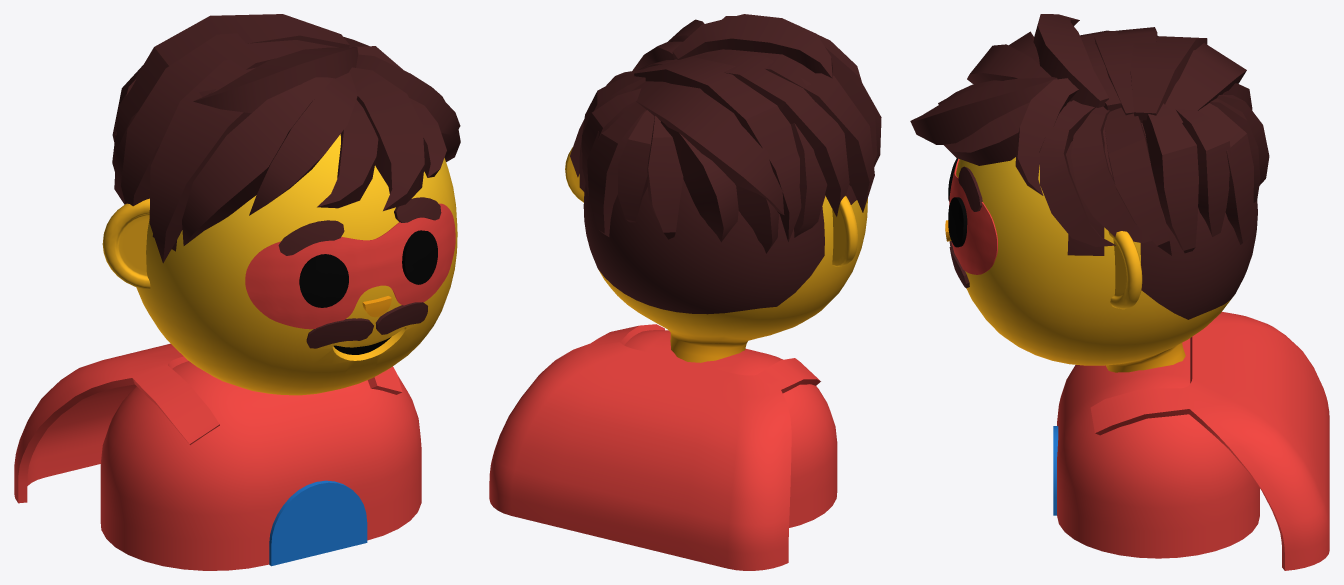
File: man_superhero.gltf
3 renders of one model, left to right at view 1: azimuth 30°, elevation 25°; view 2: azimuth 150°, elevation 25°; view 3: azimuth 270°, elevation 25°, orthographic. The views are drawn at different scales.
Visible parts, largest first — view 1: Cube.2350, Sphere.156, Roundcube.198, Sphere.157, Roundcube.199, Circle.961, Circle.956, Cylinder.175, Circle.960, Circle.959; view 2: Sphere.157, Cube.2350, Roundcube.198, Sphere.156, Cylinder.175; view 3: Cube.2350, Roundcube.198, Sphere.156, Sphere.157, Roundcube.199, Cylinder.175, Circle.956, Circle.959.
Part boxes in pixels (box(x1,y1,x2,y2)): Cube.2350: box(112, 14, 460, 263); Sphere.156: box(100, 361, 421, 570); Roundcube.198: box(136, 134, 457, 395); Sphere.157: box(14, 343, 402, 503); Roundcube.199: box(245, 203, 455, 329); Circle.961: box(269, 480, 367, 566); Circle.956: box(299, 230, 437, 307); Cylinder.175: box(102, 198, 150, 289); Circle.960: box(306, 302, 427, 348); Circle.959: box(278, 197, 441, 255); Sphere.157: box(489, 324, 820, 570); Cube.2350: box(570, 14, 881, 253); Roundcube.198: box(583, 179, 867, 362); Sphere.156: box(624, 330, 837, 527); Cylinder.175: box(565, 147, 857, 266); Cube.2350: box(910, 14, 1269, 255); Roundcube.198: box(956, 101, 1257, 372); Sphere.156: box(1057, 338, 1259, 558); Sphere.157: box(1090, 312, 1329, 570); Roundcube.199: box(949, 158, 997, 274); Cylinder.175: box(1108, 231, 1142, 309); Circle.956: box(948, 158, 967, 247); Circle.959: box(958, 166, 982, 211).
Size of the model in its own units: 1.78 by 2.47 by 2.07.
2 materials, 2 textured.
